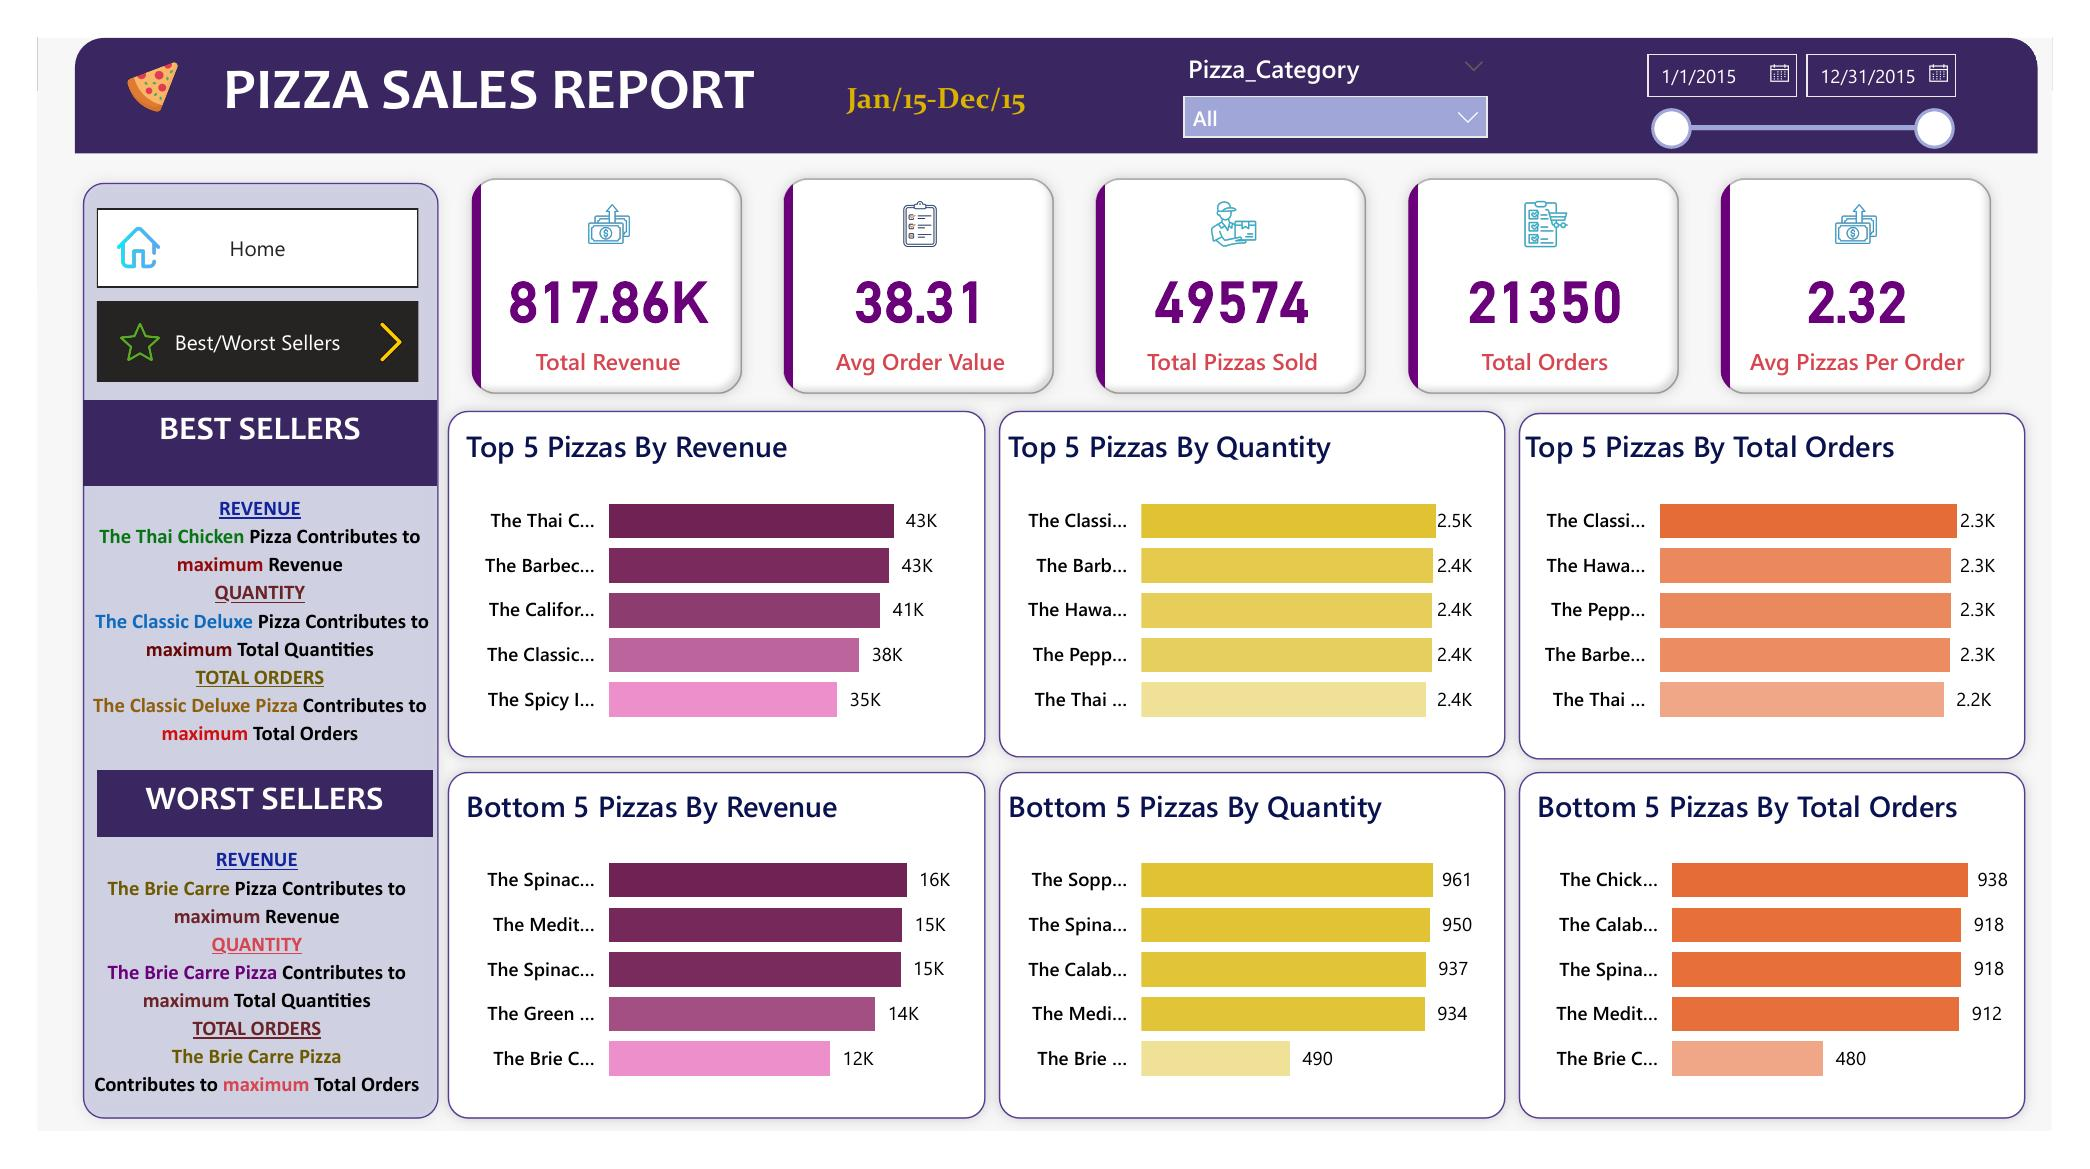

This screenshot's page, from the dashboard's own definition file:
{"tool":"powerbi","page":{"name":"Best/Worst Sellers","canvas":[1290,700],"ordinal":1},"visuals":[{"type":"cardVisual","fields":{"Data":["pizza_sales.Total Revenue","pizza_sales.Avg Order Value","pizza_sales.Total Pizzas Sold","pizza_sales.Total Orders","pizza_sales.Avg Pizzas Per Order"]},"box":[261.8,74.2,1006.6,169.4],"z":0},{"type":"shape","box":[21,85.4,243.6,614.6],"z":0,"group":"g7"},{"type":"shape","box":[23.5,0,1257.2,74.2],"z":1000,"group":"g1"},{"type":"slicer","fields":{"Values":["pizza_sales.pizza_category"]},"box":[708.4,7,215.6,60.2],"z":1000},{"type":"slicer","fields":{"Values":["pizza_sales.order_date"]},"box":[1027.6,1.4,218.4,72.8],"z":2000},{"type":"textbox","box":[98.4,4.2,381.3,56],"z":2000,"group":"g1"},{"type":"textbox","box":[29.4,232.4,226.8,54.6],"z":2000,"group":"g7"},{"type":"group","id":"g1","title":"Group 5","box":[23.5,0,1257.2,469],"z":3000,"group":"g7"},{"type":"textbox","box":[509.6,22.4,131.3,39.2],"z":3000,"group":"g1"},{"type":"group","id":"g2","title":"Group 2","box":[254.8,462,359.8,238],"z":3000},{"type":"image","box":[46.7,9.8,51.7,43.4],"z":4000,"group":"g1"},{"type":"group","id":"g3","title":"Group 2","box":[254.8,231,359.8,238],"z":4000},{"type":"textbox","box":[37.8,469,215.6,43.4],"z":4000,"group":"g7"},{"type":"shape","box":[254.8,231,359.8,238],"z":5000,"group":"g3"},{"type":"shape","box":[607.6,231,340.2,238],"z":5000,"group":"g5"},{"type":"shape","box":[940.8,232.4,340.2,238],"z":5000,"group":"g8"},{"type":"clusteredBarChart","title":"Top 5  Pizzas By Revenue","fields":{"Category":["pizza_sales.pizza_name"],"Y":["pizza_sales.Total Revenue"]},"box":[270.2,249.2,330.4,203],"z":5000},{"type":"shape","box":[254.8,462,359.8,238],"z":5000,"group":"g2"},{"type":"shape","box":[607.6,462,340.2,238],"z":5000,"group":"g4"},{"type":"shape","box":[940.8,462,340.2,238],"z":5000,"group":"g6"},{"type":"textbox","box":[28,512.4,225.4,175],"z":5000,"group":"g7"},{"type":"clusteredBarChart","title":"Bottom 5  Pizzas By Revenue","fields":{"Category":["pizza_sales.pizza_name"],"Y":["pizza_sales.Total Revenue"]},"box":[270.2,478.8,330.4,203],"z":6000},{"type":"group","id":"g4","title":"Group 2","box":[607.6,462,340.2,238],"z":7000},{"type":"group","id":"g5","title":"Group 2","box":[607.6,231,340.2,238],"z":8000},{"type":"group","id":"g6","title":"Group 2","box":[940.8,462,340.2,238],"z":9000},{"type":"group","id":"g7","title":"Group 1","box":[21,0,1259.7,700],"z":10000},{"type":"clusteredBarChart","title":"Top 5  Pizzas By Quantity","fields":{"Category":["pizza_sales.pizza_name"],"Y":["pizza_sales.Total Pizzas Sold"]},"box":[617.4,249.2,306.6,203],"z":11000},{"type":"textbox","box":[28.4,287,226.8,182],"z":11000,"group":"g1"},{"type":"group","id":"g8","title":"Group 2","box":[940.8,232.4,340.2,238],"z":12000},{"type":"slicer","fields":{"Values":["pizza_sales.pizza_category"]},"box":[723.8,4.2,215.6,60.2],"z":13000},{"type":"slicer","fields":{"Values":["pizza_sales.order_date"]},"box":[1017.8,0,218.4,72.8],"z":14000},{"type":"clusteredBarChart","title":"Bottom 5  Pizzas By Quantity","fields":{"Category":["pizza_sales.pizza_name"],"Y":["pizza_sales.Total Pizzas Sold"]},"box":[617.4,478.8,306.6,203],"z":15000},{"type":"clusteredBarChart","title":"Top 5  Pizzas By Total Orders","fields":{"Category":["pizza_sales.pizza_name"],"Y":["pizza_sales.Total Orders"]},"box":[947.8,249.2,310.8,203],"z":16000},{"type":"clusteredBarChart","title":"Bottom 5  Pizzas By Total Orders","fields":{"Category":["pizza_sales.pizza_name"],"Y":["pizza_sales.Total Orders"]},"box":[956.2,478.8,310.8,203],"z":17000},{"type":"pageNavigator","box":[37.8,169.4,205.8,50.4],"z":18000},{"type":"pageNavigator","box":[37.8,109.2,205.8,50.4],"z":19000},{"type":"image","box":[208.6,175,35,39.2],"z":20000},{"type":"image","box":[46.2,114.8,36.4,37.8],"z":21000},{"type":"image","box":[47.6,170.8,35,46.2],"z":22000}]}

Visuals, with their boxes on the page's 1290x700 design canvas (x1, y1, x2, y2). These are canvas units, not pixel positions in the 2090x1169 screenshot, which may show the page scaled, cropped or inside an application window:
cardVisual - pizza_sales.Total Revenue x pizza_sales.Avg Order Value: <bbox>262, 74, 1268, 244</bbox>
shape: <bbox>21, 85, 265, 700</bbox>
shape: <bbox>24, 0, 1281, 74</bbox>
slicer - pizza_sales.pizza_category: <bbox>708, 7, 924, 67</bbox>
slicer - pizza_sales.order_date: <bbox>1028, 1, 1246, 74</bbox>
textbox: <bbox>98, 4, 480, 60</bbox>
textbox: <bbox>29, 232, 256, 287</bbox>
"Group 5" group: <bbox>24, 0, 1281, 469</bbox>
textbox: <bbox>510, 22, 641, 62</bbox>
"Group 2" group: <bbox>255, 462, 615, 700</bbox>
image: <bbox>47, 10, 98, 53</bbox>
"Group 2" group: <bbox>255, 231, 615, 469</bbox>
textbox: <bbox>38, 469, 253, 512</bbox>
shape: <bbox>255, 231, 615, 469</bbox>
shape: <bbox>608, 231, 948, 469</bbox>
shape: <bbox>941, 232, 1281, 470</bbox>
"Top 5  Pizzas By Revenue" clusteredBarChart: <bbox>270, 249, 601, 452</bbox>
shape: <bbox>255, 462, 615, 700</bbox>
shape: <bbox>608, 462, 948, 700</bbox>
shape: <bbox>941, 462, 1281, 700</bbox>
textbox: <bbox>28, 512, 253, 687</bbox>
"Bottom 5  Pizzas By Revenue" clusteredBarChart: <bbox>270, 479, 601, 682</bbox>
"Group 2" group: <bbox>608, 462, 948, 700</bbox>
"Group 2" group: <bbox>608, 231, 948, 469</bbox>
"Group 2" group: <bbox>941, 462, 1281, 700</bbox>
"Group 1" group: <bbox>21, 0, 1281, 700</bbox>
"Top 5  Pizzas By Quantity" clusteredBarChart: <bbox>617, 249, 924, 452</bbox>
textbox: <bbox>28, 287, 255, 469</bbox>
"Group 2" group: <bbox>941, 232, 1281, 470</bbox>
slicer - pizza_sales.pizza_category: <bbox>724, 4, 939, 64</bbox>
slicer - pizza_sales.order_date: <bbox>1018, 0, 1236, 73</bbox>
"Bottom 5  Pizzas By Quantity" clusteredBarChart: <bbox>617, 479, 924, 682</bbox>
"Top 5  Pizzas By Total Orders" clusteredBarChart: <bbox>948, 249, 1259, 452</bbox>
"Bottom 5  Pizzas By Total Orders" clusteredBarChart: <bbox>956, 479, 1267, 682</bbox>
pageNavigator: <bbox>38, 169, 244, 220</bbox>
pageNavigator: <bbox>38, 109, 244, 160</bbox>
image: <bbox>209, 175, 244, 214</bbox>
image: <bbox>46, 115, 83, 153</bbox>
image: <bbox>48, 171, 83, 217</bbox>
